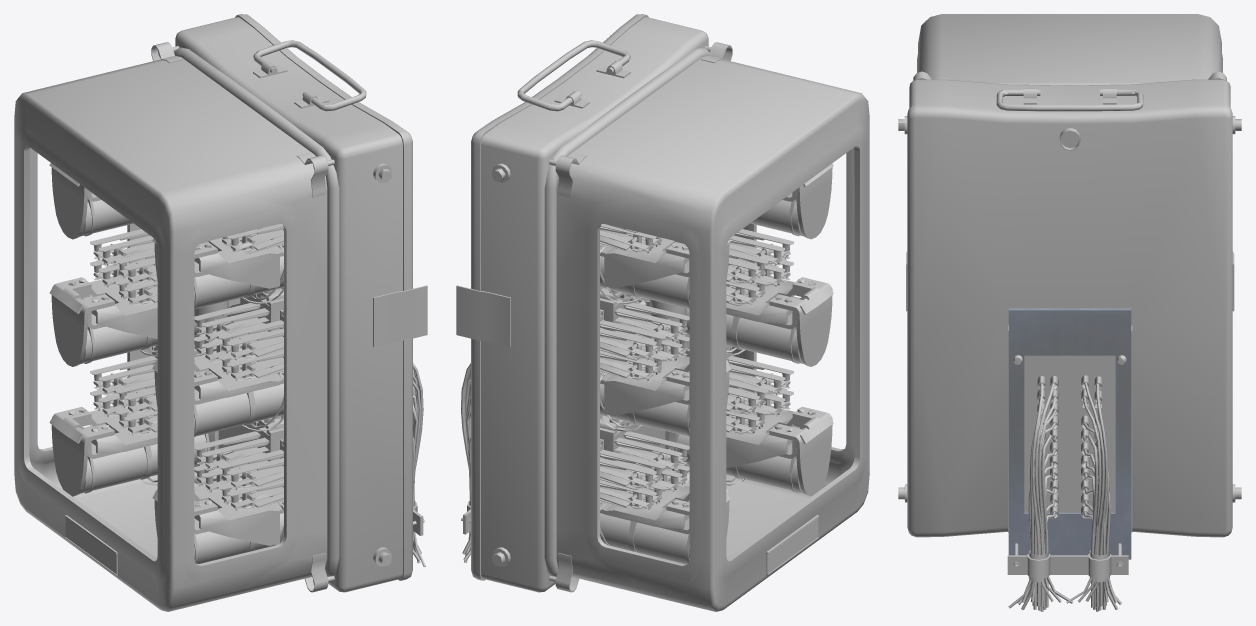
3 views of the same model, side by side, from view 1: azimuth 30°, elevation 25°; view 2: azimuth 150°, elevation 25°; view 3: azimuth 270°, elevation 25° (orthographic). The views are drawn at different scales.
Parts seen in each view (by area): view 1: SM_SP1; view 2: SM_SP1; view 3: SM_SP1.
Boxes of the visible parts, x1=… form: SM_SP1: x1=14, y1=14, x2=427, y2=611; SM_SP1: x1=456, y1=14, x2=869, y2=611; SM_SP1: x1=898, y1=14, x2=1241, y2=611.
Size of the model in its own units: 20.83 by 31.87 by 20.56.
